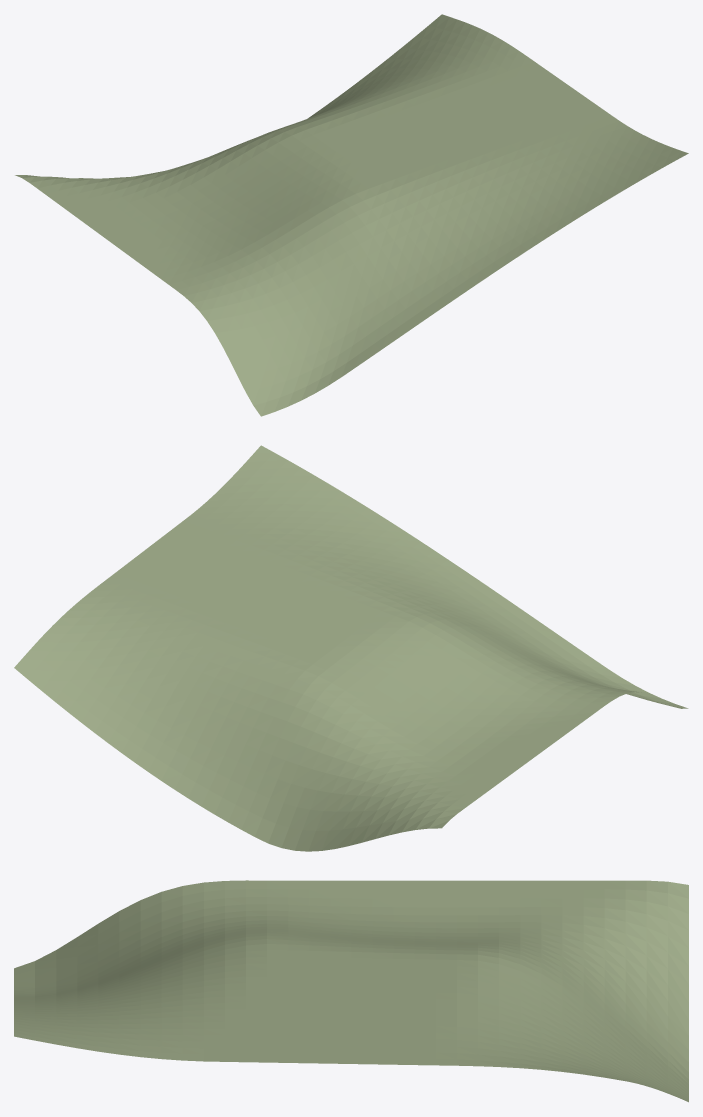
The model's file is alpine-7-2.glb.
3 renders of one model, top to bottom at view 1: azimuth 30°, elevation 25°; view 2: azimuth 150°, elevation 25°; view 3: azimuth 270°, elevation 25°, orthographic. The views are drawn at different scales.
Visible parts, largest first — view 1: alpine-7-2; view 2: alpine-7-2; view 3: alpine-7-2.
Part boxes in pixels (x1=…): alpine-7-2: x1=15, y1=14, x2=688, y2=416; alpine-7-2: x1=14, y1=445, x2=688, y2=851; alpine-7-2: x1=14, y1=880, x2=688, y2=1102.
Bounding box in the file's own units: 256 × 90.81 × 256.
